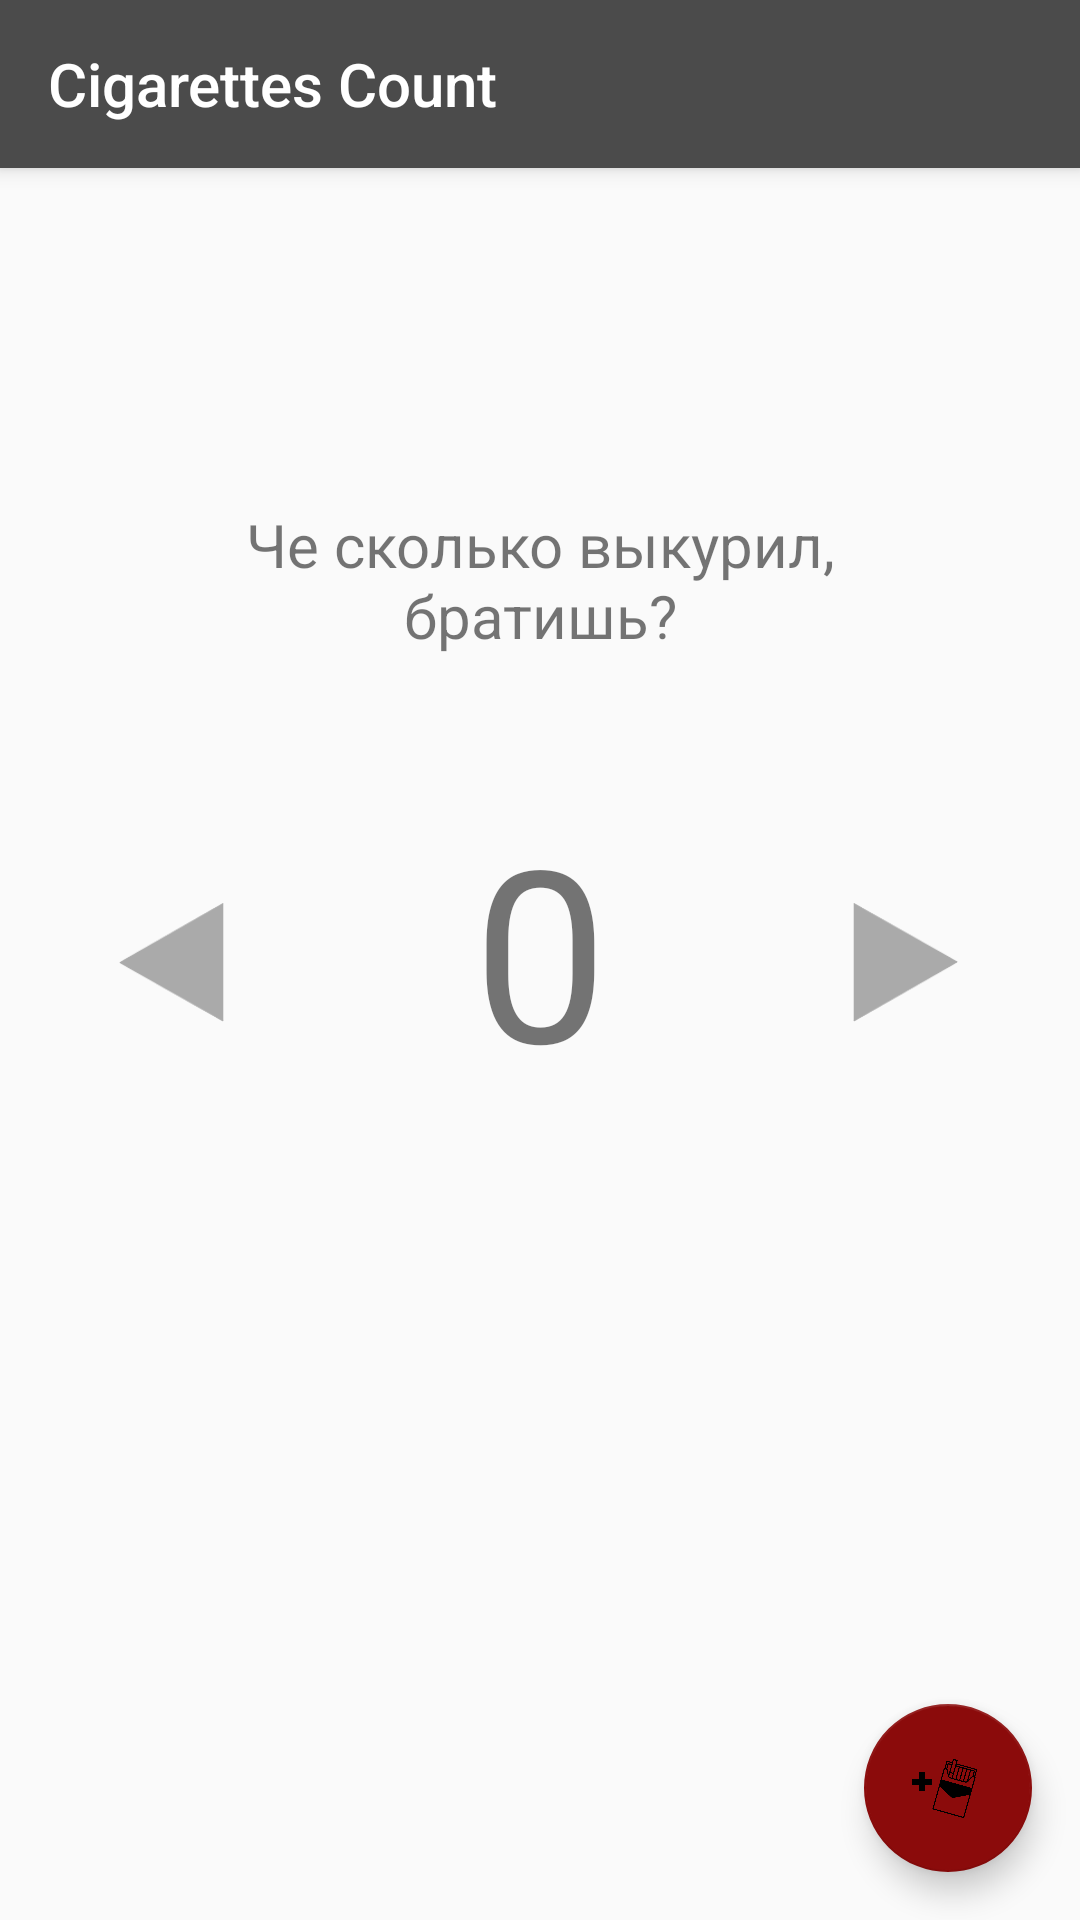

Where to tap for icons on this 1080 × 1920 app screen, as point (x, y):
add pack: point (948, 1788)
left arrow: point (172, 962)
right arrow: point (905, 962)
